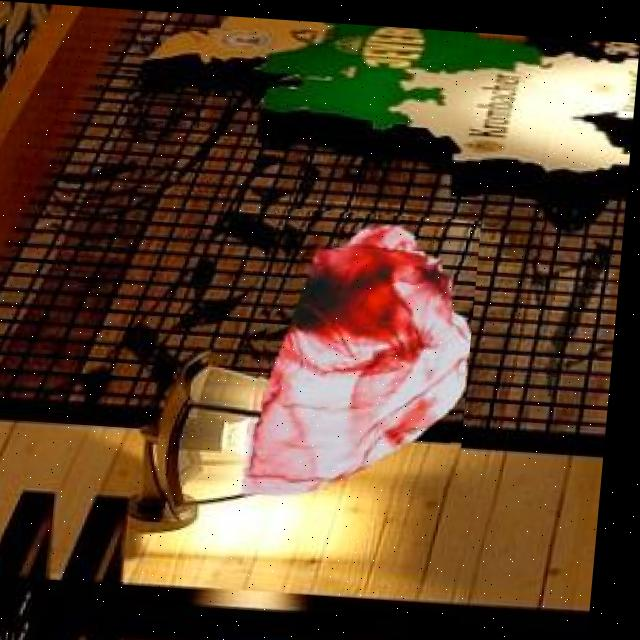plasticcover: (248, 202, 485, 491)
